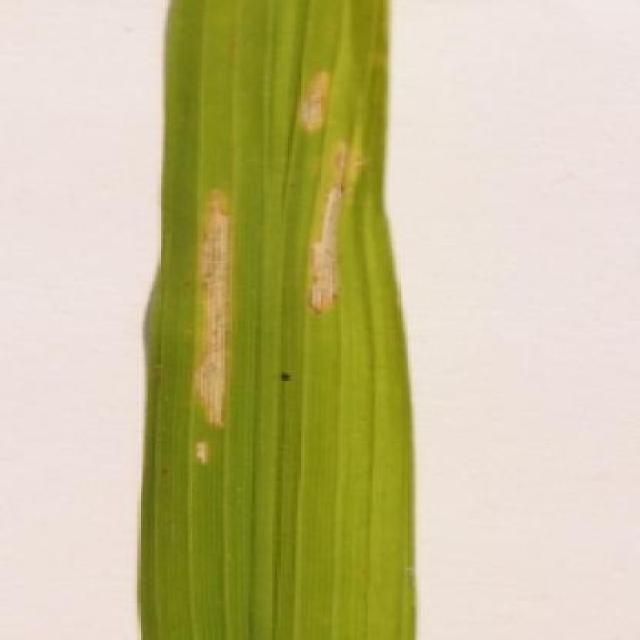Brown_Spot: (137, 0, 420, 640)
